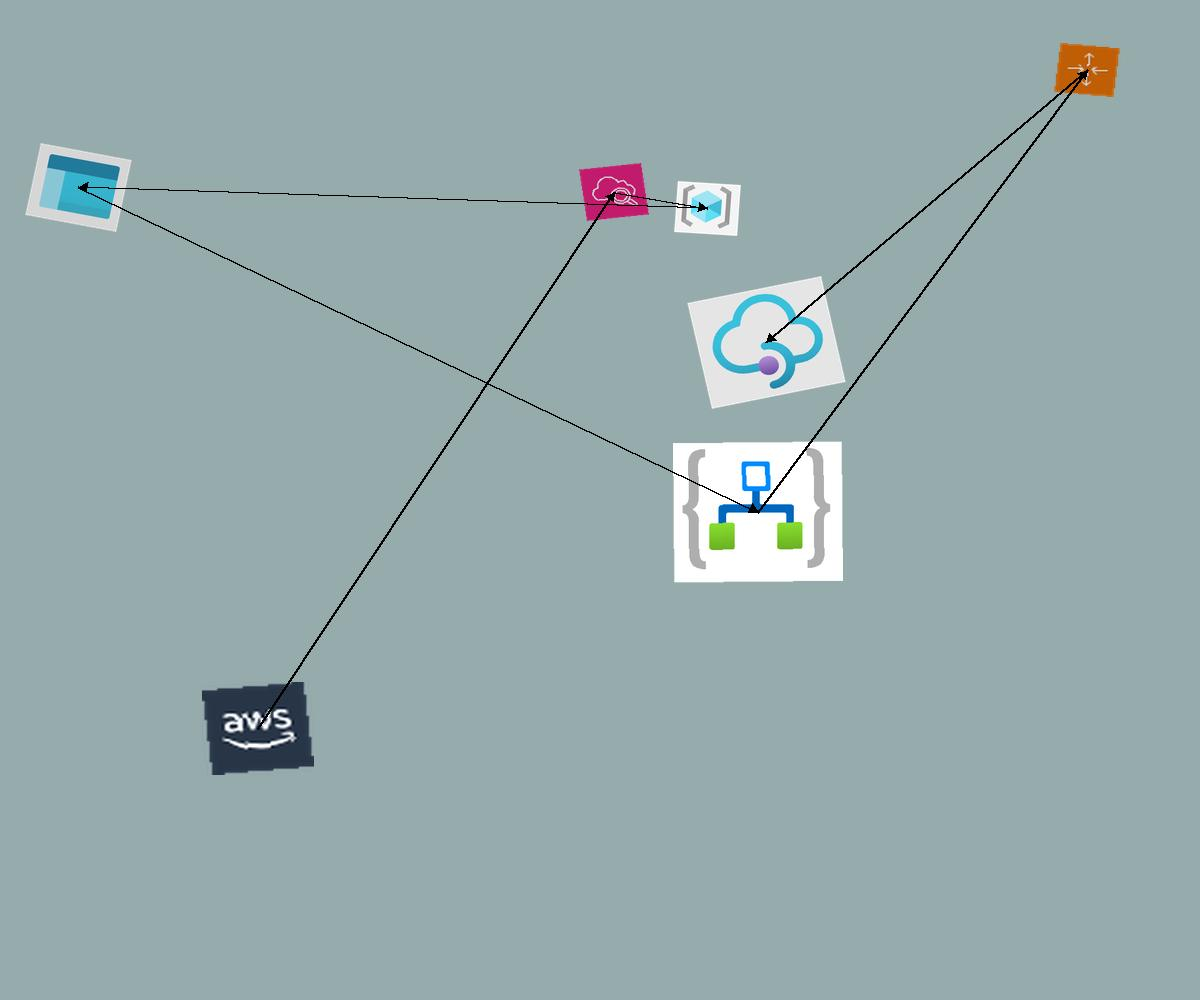AWS-Cloud-logo: (202, 682, 314, 775)
AWS-CloudWatch: (579, 163, 649, 221)
AWS-Scaling-group: (1053, 42, 1121, 98)
Azure_api_gateway: (687, 276, 846, 409)
Azure_integration-204-Logic-Apps: (673, 441, 843, 583)
Azure_management-portal: (25, 143, 132, 232)
Azure_resource_group: (674, 181, 741, 236)
